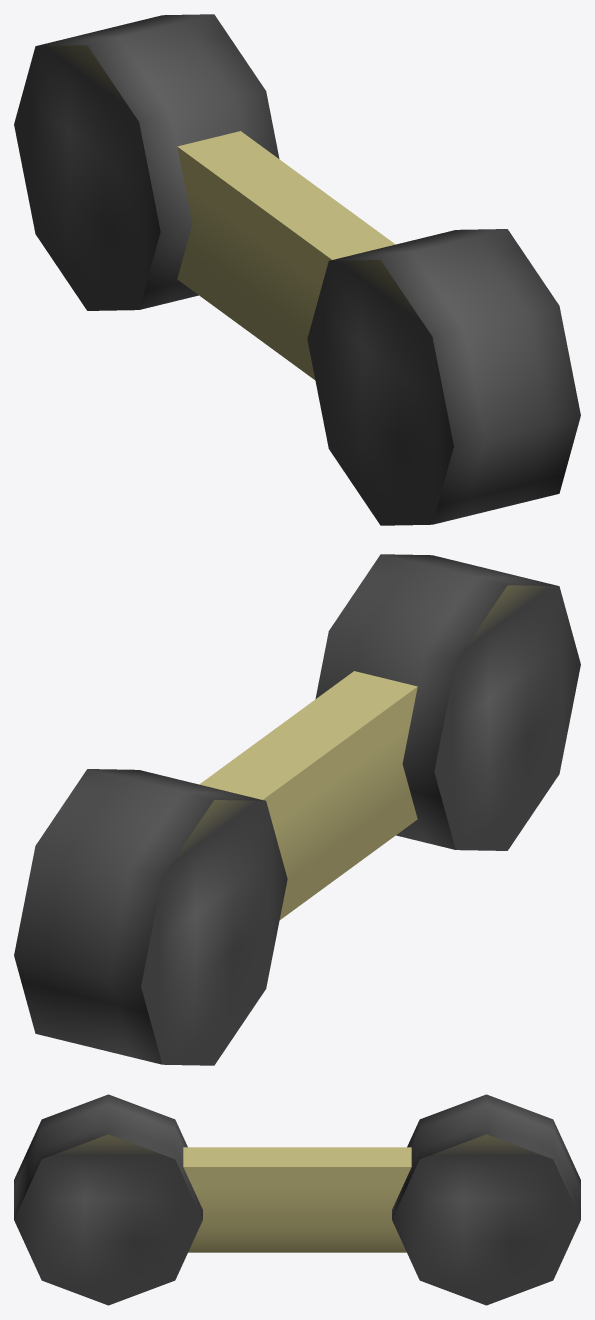
The model's file is precass_armupper1.obj.
The picture shows the model from 3 angles, top to bottom: view 1: azimuth 30°, elevation 25°; view 2: azimuth 150°, elevation 25°; view 3: azimuth 270°, elevation 25°; orthographic projection. The views are drawn at different scales.
Parts seen in each view (by area): view 1: ArmUpper1; view 2: ArmUpper1; view 3: ArmUpper1.
Boxes of the visible parts, <box> form: ArmUpper1: <box>14,14,580,525</box>; ArmUpper1: <box>14,554,580,1065</box>; ArmUpper1: <box>14,1094,580,1305</box>.
Bounding box in the file's own units: 0.125 × 0.25 × 0.75.
